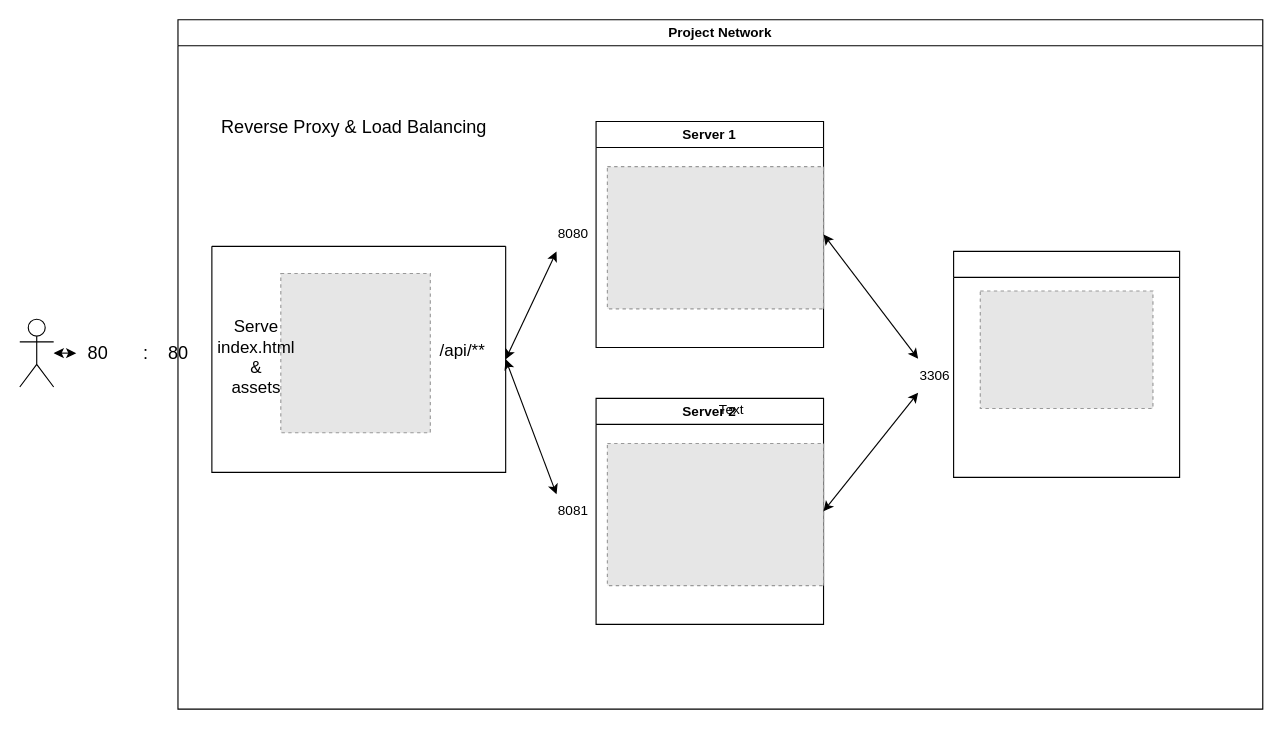
This 1283x729 diagram has some shape labels left out. Grey dashed boxes stand in for pictures. Each missing label, with the centre of its shape:
Client: point (36, 352)
MySql: point (1066, 363)
